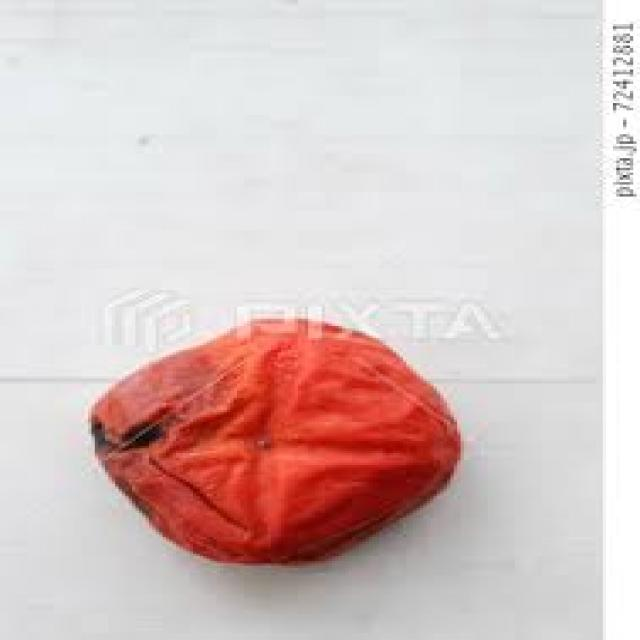organic waste: (88, 314, 461, 563)
